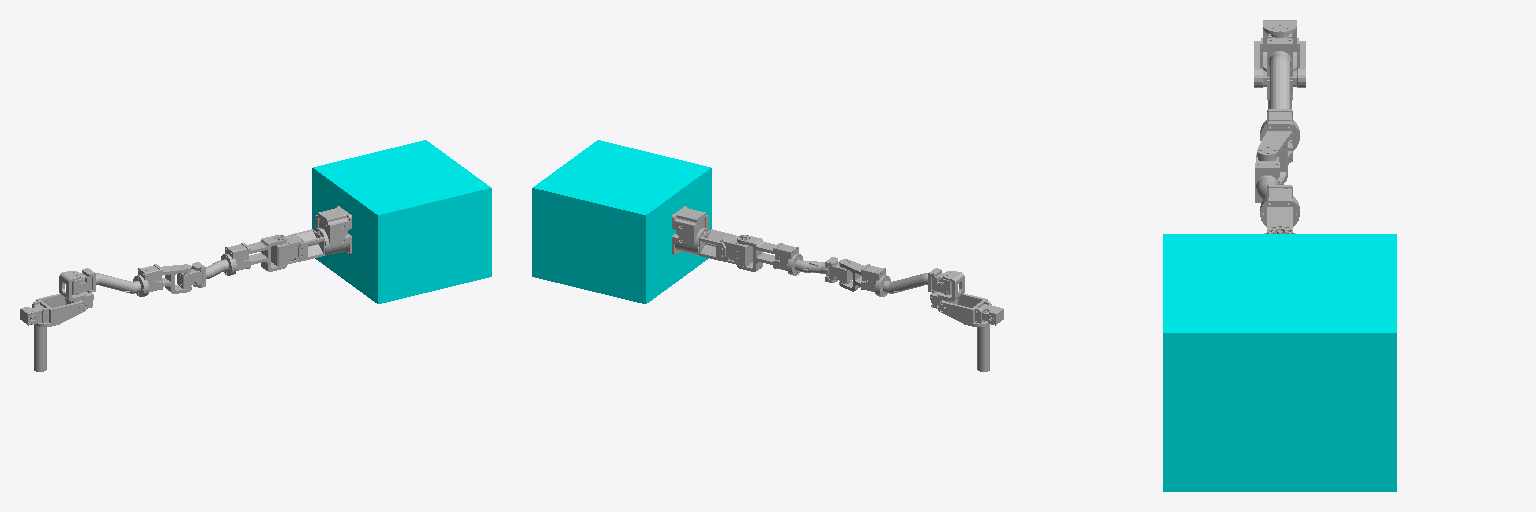
URDF robot description (m6_isomorphism_description):
<?xml version="1.0" encoding="utf-8"?>
<!-- This URDF was automatically created by SolidWorks to URDF Exporter! Originally created by Stephen Brawner (brawner@gmail.com) 
     Commit Version: 1.6.0-4-g7f85cfe  Build Version: 1.6.7995.38578
     For more information, please see http://wiki.ros.org/sw_urdf_exporter -->
<robot
  name="m6_isomorphism_description">
  <link
    name="torso_link">
    <visual>
      <origin xyz="0 0 0" rpy="0 0 0" />
      <geometry>
        <box size="0.2 0.2 0.15" />
      </geometry>
      <material name="Cyan">
        <color rgba="0 1.0 1.0 1.0"/>
      </material>
    </visual> 
    <collision>
      <origin xyz="0 0 0" rpy="0 0 0"/>
      <geometry>
        <box size="0.5 0.5 0.2" />
      </geometry>
    </collision>
  </link>
  <link
    name="rbase_link">
    <inertial>
      <origin
        xyz="-4.2135E-12 -0.010763 0.021995"
        rpy="0 0 0" />
      <mass
        value="0.14153" />
      <inertia
        ixx="5.3433E-05"
        ixy="9.5427E-15"
        ixz="-1.6969E-16"
        iyy="3.2138E-05"
        iyz="5.391E-07"
        izz="5.5068E-05" />
    </inertial>
    <visual>
      <origin
        xyz="0 0 0"
        rpy="0 0 0" />
      <geometry>
        <mesh
          filename="package://m6_isomorphism_description/meshes/right/base_link.STL" />
      </geometry>
      <material
        name="">
        <color
          rgba="0.75294 0.75294 0.75294 1" />
      </material>
    </visual>
    <collision>
      <origin
        xyz="0 0 0"
        rpy="0 0 0" />
      <geometry>
        <mesh
          filename="package://m6_isomorphism_description/meshes/right/base_link.STL" />
      </geometry>
    </collision>
  </link>
  <joint
    name="right_Jbase"
    type="fixed">
    <origin
      xyz="-0.1 0.0 0.0"
      rpy="-1.5708 0 1.5708" />
    <parent
      link="torso_link" />
    <child
      link="rbase_link" />  
    <axis
      xyz="0 0 1" />
  </joint>
  <link
    name="Link1_right">
    <inertial>
      <origin
        xyz="-5.78E-12 -0.00023583 0.055002"
        rpy="0 0 0" />
      <mass
        value="0.10316" />
      <inertia
        ixx="2.6252E-05"
        ixy="1.698E-16"
        ixz="9.5436E-15"
        iyy="2.553E-05"
        iyz="-7.2087E-08"
        izz="1.6668E-05" />
    </inertial>
    <visual>
      <origin
        xyz="0 0 0"
        rpy="0 0 0" />
      <geometry>
        <mesh
          filename="package://m6_isomorphism_description/meshes/right/Link1.STL" />
      </geometry>
      <material
        name="">
        <color
          rgba="0.75294 0.75294 0.75294 1" />
      </material>
    </visual>
    <collision>
      <origin
        xyz="0 0 0"
        rpy="0 0 0" />
      <geometry>
        <mesh
          filename="package://m6_isomorphism_description/meshes/right/Link1.STL" />
      </geometry>
    </collision>
  </link>
  <joint
    name="joint1_right"
    type="revolute">
    <origin
      xyz="0 0 0.039"
      rpy="0 0 0" />
    <parent
      link="rbase_link" />
    <child
      link="Link1_right" />
    <axis
      xyz="0 0 1" />
    <limit
      lower="-3.1415926536"
      upper="3.1415926536"
      effort="0"
      velocity="0" />
  </joint>
  <link
    name="Link2_right">
    <inertial>
      <origin
        xyz="1.8833E-06 0.054722 0.0046102"
        rpy="0 0 0" />
      <mass
        value="0.053274" />
      <inertia
        ixx="1.6188E-05"
        ixy="-1.1763E-10"
        ixz="-1.93E-09"
        iyy="1.0104E-05"
        iyz="-1.6634E-06"
        izz="1.044E-05" />
    </inertial>
    <visual>
      <origin
        xyz="0 0 0"
        rpy="0 0 0" />
      <geometry>
        <mesh
          filename="package://m6_isomorphism_description/meshes/right/Link2.STL" />
      </geometry>
      <material
        name="">
        <color
          rgba="0.75294 0.75294 0.75294 1" />
      </material>
    </visual>
    <collision>
      <origin
        xyz="0 0 0"
        rpy="0 0 0" />
      <geometry>
        <mesh
          filename="package://m6_isomorphism_description/meshes/right/Link2.STL" />
      </geometry>
    </collision>
  </link>
  <joint
    name="joint2_right"
    type="revolute">
    <origin
      xyz="0 0 0.07625"
      rpy="1.5708 0 0" />
    <parent
      link="Link1_right" />
    <child
      link="Link2_right" />
    <axis
      xyz="0 0 -1" />
    <limit
      lower="-2.006"
      upper="2.006"
      effort="0"
      velocity="0" />
  </joint>
  <link
    name="Link3_right">
    <inertial>
      <origin
        xyz="-0.0088521 -0.00010455 0.060175"
        rpy="0 0 0" />
      <mass
        value="0.039076" />
      <inertia
        ixx="9.9382E-06"
        ixy="1.1994E-10"
        ixz="1.4687E-06"
        iyy="1.0153E-05"
        iyz="3.7185E-09"
        izz="2.7E-06" />
    </inertial>
    <visual>
      <origin
        xyz="0 0 0"
        rpy="0 0 0" />
      <geometry>
        <mesh
          filename="package://m6_isomorphism_description/meshes/right/Link3Right.STL" />
      </geometry>
      <material
        name="">
        <color
          rgba="0.752941176470588 0.752941176470588 0.752941176470588 1" />
      </material>
    </visual>
    <collision>
      <origin
        xyz="0 0 0"
        rpy="0 0 0" />
      <geometry>
        <mesh
          filename="package://m6_isomorphism_description/meshes/right/Link3Right.STL" />
      </geometry>
    </collision>
  </link>
  <joint
    name="joint3_right"
    type="revolute">
    <origin
      xyz="0 0.0855 0"
      rpy="-1.5708 0 0" />
    <parent
      link="Link2_right" />
    <child
      link="Link3_right" />
    <axis
      xyz="0 0 1" />
    <limit
      lower="-3.1415926536"
      upper="3.1415926536"
      effort="0"
      velocity="0" />
  </joint>
  <link
    name="Link4_right">
    <inertial>
      <origin
        xyz="-0.00901689110793653 -0.0464515200570909 0.00477115374976674"
        rpy="0 0 0" />
      <mass
        value="0.0456777687039141" />
      <inertia
        ixx="9.34024223442292E-06"
        ixy="-7.95347048587573E-07"
        ixz="1.61414786983041E-07"
        iyy="7.7962295104586E-06"
        iyz="6.39398605604744E-07"
        izz="5.56379318366526E-06" />
    </inertial>
    <visual>
      <origin
        xyz="0 0 0"
        rpy="0 0 0" />
      <geometry>
        <mesh
          filename="package://m6_isomorphism_description/meshes/right/Link4Right.STL" />
      </geometry>
      <material
        name="">
        <color
          rgba="0.75294 0.75294 0.75294 1" />
      </material>
    </visual>
    <collision>
      <origin
        xyz="0 0 0"
        rpy="0 0 0" />
      <geometry>
        <mesh
          filename="package://m6_isomorphism_description/meshes/right/Link4Right.STL" />
      </geometry>
    </collision>
  </link>
  <joint
    name="joint4_right"
    type="revolute">
    <origin
      xyz="-0.0108 0 0.0866"
      rpy="-1.5708 0 3.1416" />
    <parent
      link="Link3_right" />
    <child
      link="Link4_right" />
    <axis
      xyz="0 0 -1" />
    <limit
      lower="-2.5307"
      upper="1.0472"
      effort="0"
      velocity="0" />
  </joint>
  <link
    name="Link5_right">
    <inertial>
      <origin
        xyz="2.02991887769521E-06 0.0222647030050976 0.0800586915495062"
        rpy="0 0 0" />
      <mass
        value="0.0484304785891184" />
      <inertia
        ixx="2.86602501146503E-05"
        ixy="8.95440075388163E-11"
        ixz="1.89715228371115E-09"
        iyy="2.51405145901762E-05"
        iyz="-8.69150851164098E-06"
        izz="6.06196898362062E-06" />
    </inertial>
    <visual>
      <origin
        xyz="0 0 0"
        rpy="0 0 0" />
      <geometry>
        <mesh
          filename="package://m6_isomorphism_description/meshes/right/Link5.STL" />
      </geometry>
      <material
        name="">
        <color
          rgba="0.75294 0.75294 0.75294 1" />
      </material>
    </visual>
    <collision>
      <origin
        xyz="0 0 0"
        rpy="0 0 0" />
      <geometry>
        <mesh
          filename="package://m6_isomorphism_description/meshes/right/Link5.STL" />
      </geometry>
    </collision>
  </link>
  <joint
    name="joint5_right"
    type="revolute">
    <origin
      xyz="-0.0108 -0.0678 0"
      rpy="1.5708 0 0" />
    <parent
      link="Link4_right" />
    <child
      link="Link5_right" />
    <axis
      xyz="0 0 1" />
    <limit
      lower="-3.1415926536"
      upper="3.1415926536"
      effort="0"
      velocity="0" />
  </joint>
  <link
    name="Link6_right">
    <inertial>
      <origin
        xyz="-0.00290227715298547 3.96280505677527E-05 0.0205598514145804"
        rpy="0 0 0" />
      <mass
        value="0.0330324963615052" />
      <inertia
        ixx="4.15542955362733E-06"
        ixy="-4.53879610391078E-08"
        ixz="8.63936024536734E-07"
        iyy="6.60461815163141E-06"
        iyz="4.43497186506156E-08"
        izz="4.92250843544468E-06" />
    </inertial>
    <visual>
      <origin
        xyz="0 0 0"
        rpy="0 0 0" />
      <geometry>
        <mesh
          filename="package://m6_isomorphism_description/meshes/right/Link6.STL" />
      </geometry>
      <material
        name="">
        <color
          rgba="0.75294 0.75294 0.75294 1" />
      </material>
    </visual>
    <collision>
      <origin
        xyz="0 0 0"
        rpy="0 0 0" />
      <geometry>
        <mesh
          filename="package://m6_isomorphism_description/meshes/right/Link6.STL" />
      </geometry>
    </collision>
  </link>
  <joint
    name="joint6_right"
    type="revolute">
    <origin
      xyz="0 0.0295 0.1206"
      rpy="1.5708 -1.5708 0" />
    <parent
      link="Link5_right" />
    <child
      link="Link6_right" />
    <axis
      xyz="0 0 1" />
    <limit
      lower="-1.47"
      upper="1.47"
      effort="0"
      velocity="0" />
  </joint>
  <link
    name="Link7_right">
    <inertial>
      <origin
        xyz="-0.0541233230831182 -0.0137141068703963 7.13861477421698E-05"
        rpy="0 0 0" />
      <mass
        value="0.068486" />
      <inertia
        ixx="3.53695211919894E-05"
        ixy="-1.02794871829881E-05"
        ixz="3.72145785842467E-09"
        iyy="2.62323922803186E-05"
        iyz="-1.17627026827259E-10"
        izz="4.51983917973854E-05" />
    </inertial>
    <visual>
      <origin
        xyz="0 0 0"
        rpy="0 0 0" />
      <geometry>
        <mesh
          filename="package://m6_isomorphism_description/meshes/right/Link7Right.STL" />
      </geometry>
      <material
        name="">
        <color
          rgba="0.75294 0.75294 0.75294 1" />
      </material>
    </visual>
    <collision>
      <origin
        xyz="0 0 0"
        rpy="0 0 0" />
      <geometry>
        <mesh
          filename="package://m6_isomorphism_description/meshes/right/Link7Right.STL" />
      </geometry>
    </collision>
  </link>
  <joint
    name="joint7_right"
    type="revolute">
    <origin
      xyz="0 0 0.0295"
      rpy="-1.5708 0 -3.1416" />
    <parent
      link="Link6_right" />
    <child
      link="Link7_right" />
    <axis
      xyz="0 0 1" />
    <limit
      lower="-1.57"
      upper="1.57"
      effort="0"
      velocity="0" />
  </joint>
</robot>

--- Facts derived from the render (not from the file) ---
The picture shows the robot from 3 angles, left to right: view 1: azimuth 30°, elevation 25°; view 2: azimuth 150°, elevation 25°; view 3: azimuth 270°, elevation 25°; orthographic projection.
Model m6_isomorphism_description with 9 links and 8 joints (7 revolute, 1 fixed), rooted at torso_link, posed all joints at 0.
Visible links, largest first — view 1: torso_link, Link7_right, Link2_right, rbase_link, Link1_right, Link4_right, Link5_right, Link3_right, Link6_right; view 2: torso_link, Link7_right, Link2_right, rbase_link, Link1_right, Link4_right, Link5_right, Link3_right, Link6_right; view 3: torso_link, Link4_right, Link5_right, Link2_right, Link6_right, Link7_right, Link3_right.
Boxes of the visible links, x1=… form: torso_link: x1=312, y1=140, x2=491, y2=303; Link7_right: x1=20, y1=294, x2=86, y2=371; Link2_right: x1=221, y1=235, x2=286, y2=275; rbase_link: x1=314, y1=206, x2=351, y2=255; Link1_right: x1=271, y1=229, x2=324, y2=266; Link4_right: x1=133, y1=264, x2=191, y2=296; Link5_right: x1=72, y1=268, x2=140, y2=294; Link3_right: x1=177, y1=259, x2=228, y2=288; Link6_right: x1=59, y1=271, x2=93, y2=308; torso_link: x1=532, y1=140, x2=711, y2=303; Link7_right: x1=937, y1=294, x2=1003, y2=371; Link2_right: x1=737, y1=235, x2=802, y2=275; rbase_link: x1=672, y1=206, x2=709, y2=255; Link1_right: x1=699, y1=229, x2=752, y2=266; Link4_right: x1=839, y1=259, x2=890, y2=296; Link5_right: x1=883, y1=268, x2=951, y2=294; Link3_right: x1=795, y1=257, x2=852, y2=283; Link6_right: x1=930, y1=271, x2=964, y2=308; torso_link: x1=1163, y1=234, x2=1396, y2=491; Link4_right: x1=1257, y1=109, x2=1299, y2=184; Link5_right: x1=1267, y1=33, x2=1292, y2=108; Link2_right: x1=1260, y1=185, x2=1299, y2=233; Link6_right: x1=1263, y1=20, x2=1296, y2=99; Link7_right: x1=1254, y1=38, x2=1305, y2=108; Link3_right: x1=1255, y1=154, x2=1279, y2=202.
Size in the robot's own frame: 0.7658 by 0.2 by 0.1745 metres.
Meshes: 8 distinct files referenced, 8 mesh visuals loaded (8 binary STL).
